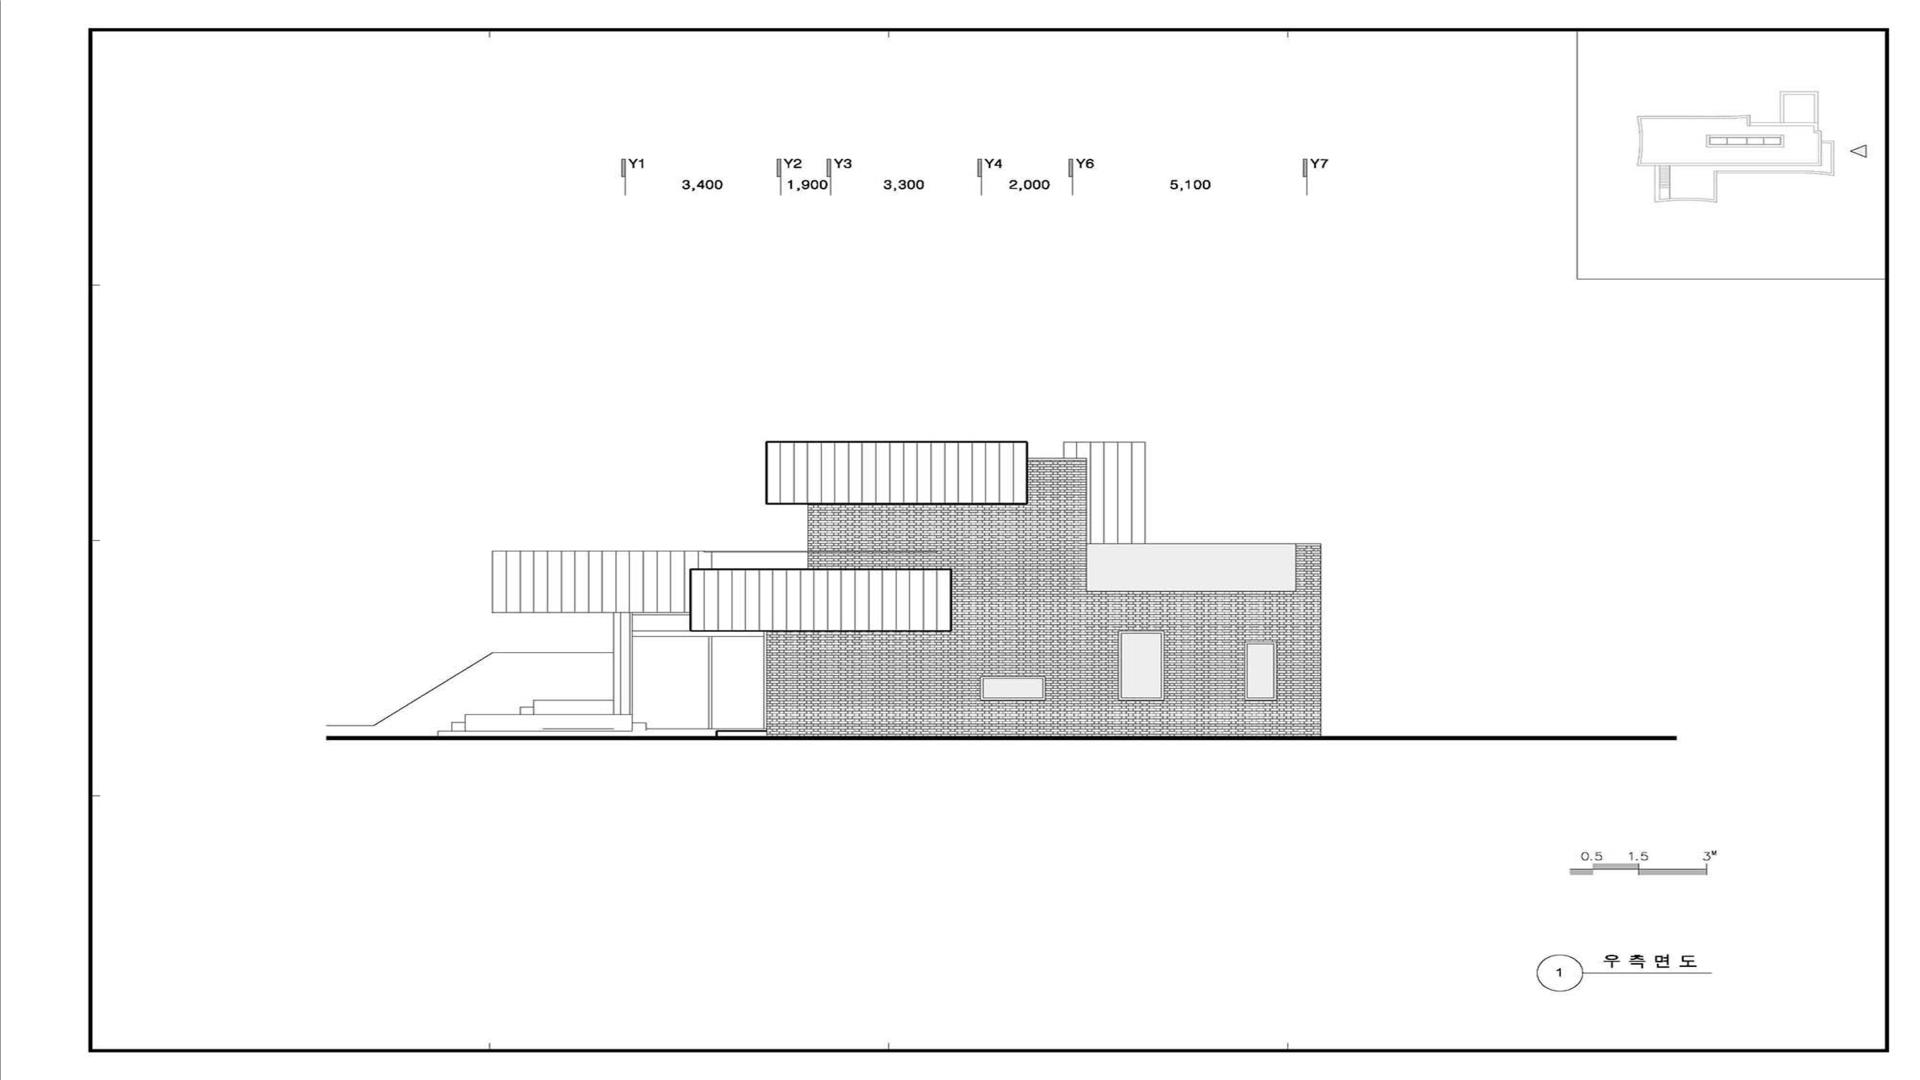wall: (373, 440, 1321, 740)
window: (632, 637, 765, 729), (1118, 630, 1164, 702), (1245, 642, 1278, 700), (981, 676, 1046, 702)
